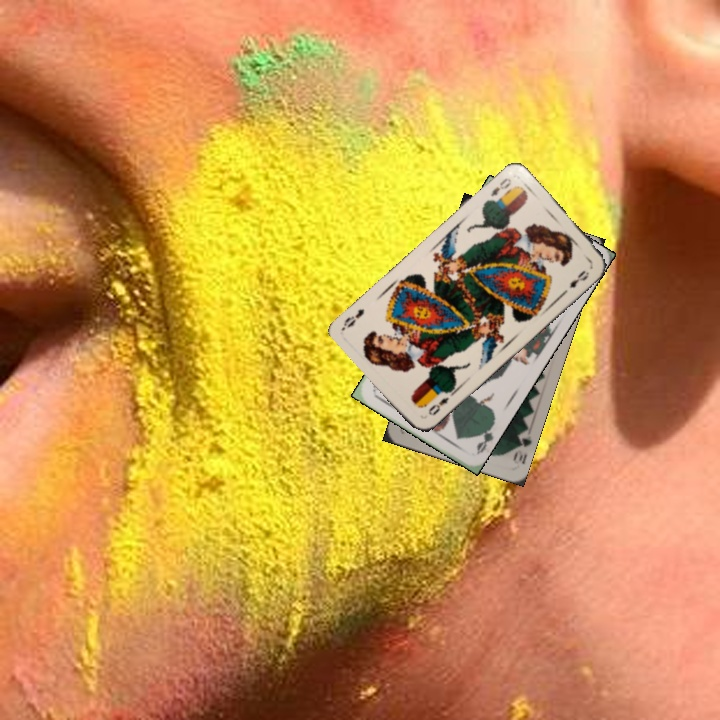EO: (424, 393, 452, 418), (486, 174, 514, 199)
G10: (509, 427, 534, 466)
GO: (472, 419, 497, 456)
